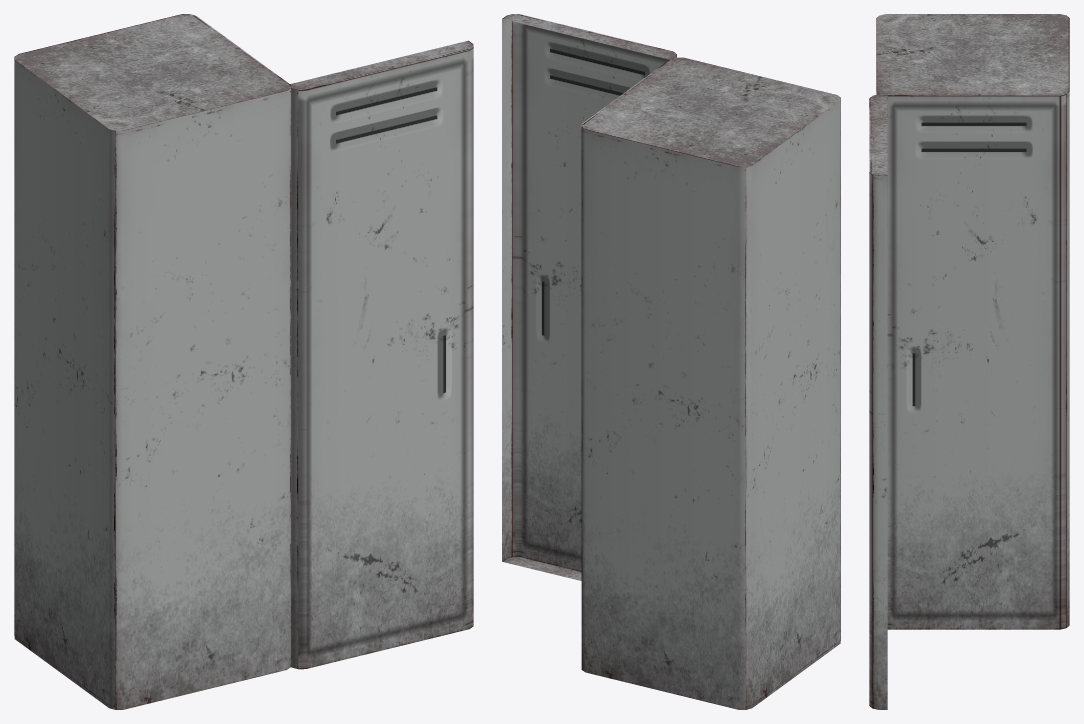
Rendered from roccer_animation_02.fbx.
The picture shows the model from 3 angles, left to right: view 1: azimuth 30°, elevation 25°; view 2: azimuth 150°, elevation 25°; view 3: azimuth 270°, elevation 25°; orthographic projection. The views are drawn at different scales.
Visible parts, largest first — view 1: roccer, roccer1; view 2: roccer, roccer1; view 3: roccer, roccer1.
Boxes of the visible parts, <box> form: roccer: <box>14,14,290,709</box>; roccer1: <box>290,40,473,669</box>; roccer: <box>581,57,840,709</box>; roccer1: <box>502,14,676,580</box>; roccer: <box>876,14,1069,629</box>; roccer1: <box>869,94,887,709</box>.
Bounding box in the file's own units: 78.73 × 121 × 41.16.
1 material, 1 textured.
